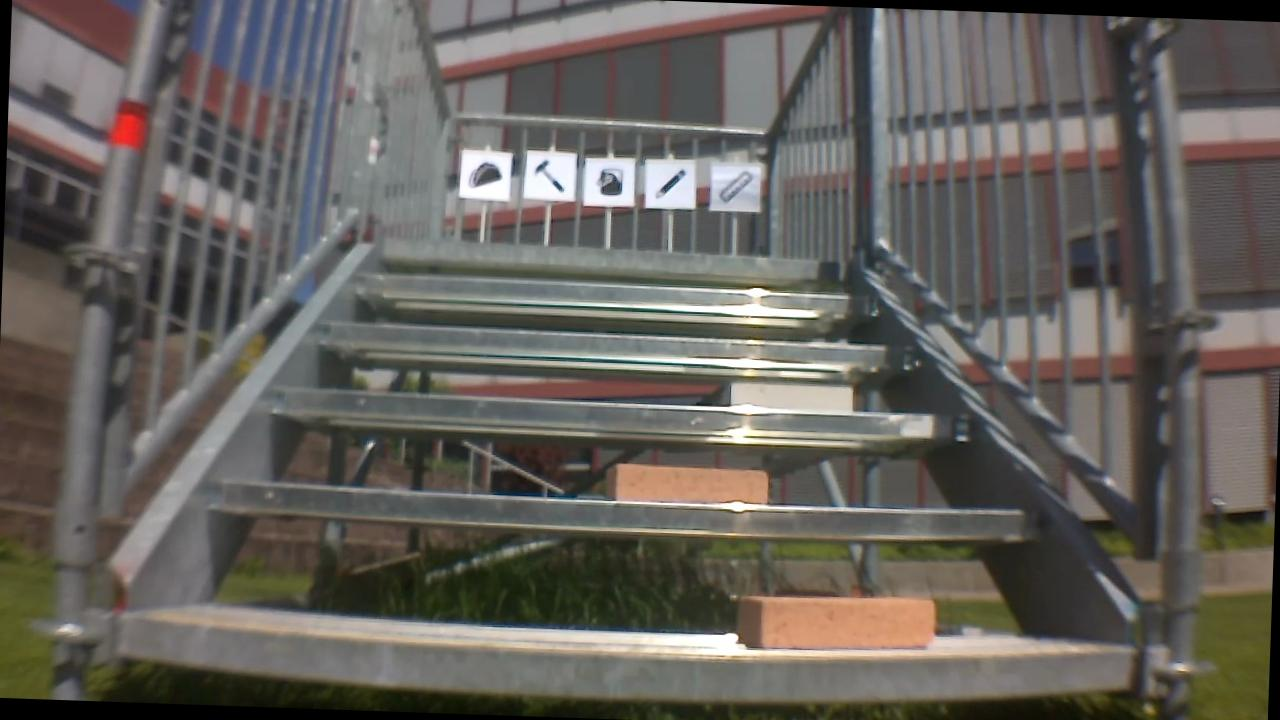brick: (735, 584, 937, 658), (611, 462, 772, 510), (726, 377, 856, 414)
bucket: (594, 166, 620, 194)
edge: (114, 609, 1139, 708), (204, 479, 1044, 545), (266, 391, 973, 446), (301, 323, 922, 370), (342, 276, 882, 314), (374, 240, 840, 279)
hammer: (528, 159, 566, 195)
pencil: (652, 166, 685, 200)
ruler: (719, 171, 751, 205)
steps: (93, 231, 1147, 704)
taco: (470, 157, 499, 189)
